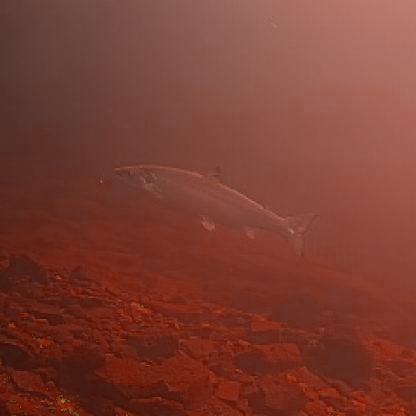salmon: (105, 154, 320, 258)
